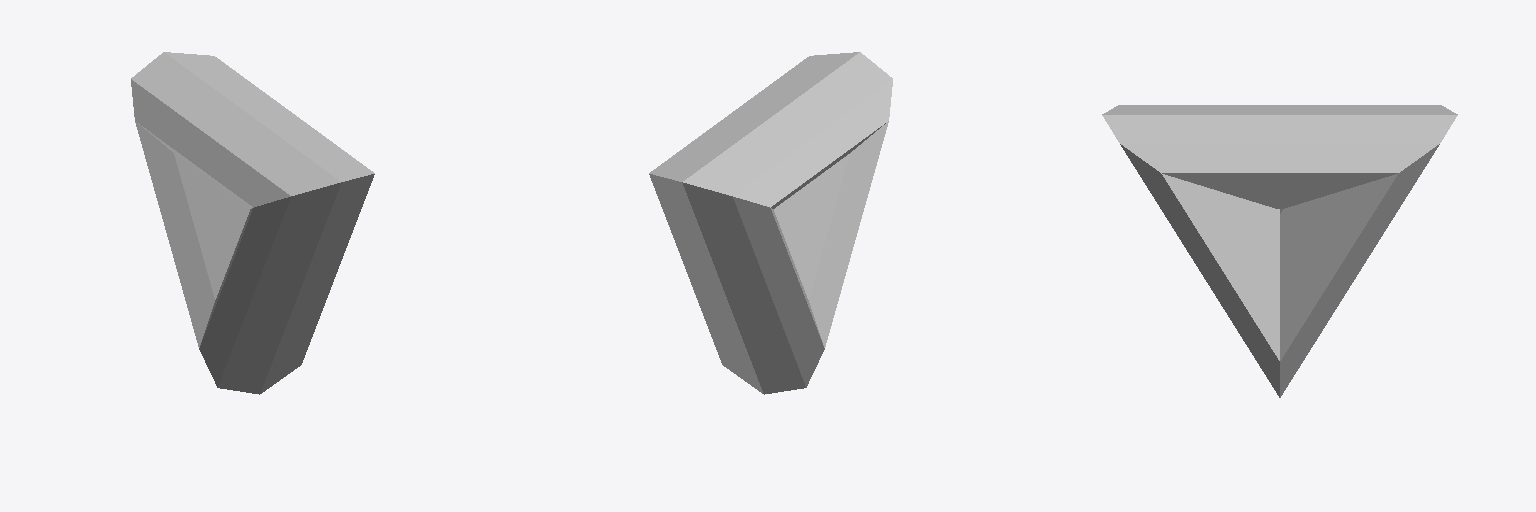
Rendered from Coin.obj.
3 renders of one model, left to right at view 1: azimuth 30°, elevation 25°; view 2: azimuth 150°, elevation 25°; view 3: azimuth 270°, elevation 25°, orthographic.
Parts seen in each view (by area): view 1: pTorus1; view 2: pTorus1; view 3: pTorus1.
Part boxes in pixels (x1,y1,x2,y2): pTorus1: (131, 52, 374, 394); pTorus1: (649, 52, 892, 394); pTorus1: (1102, 105, 1457, 397).
Size of the model in its own units: 1.04 by 2.25 by 2.6.